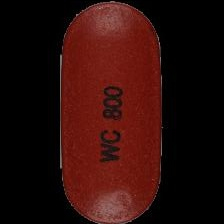0430-0783: (0, 0, 224, 224)
